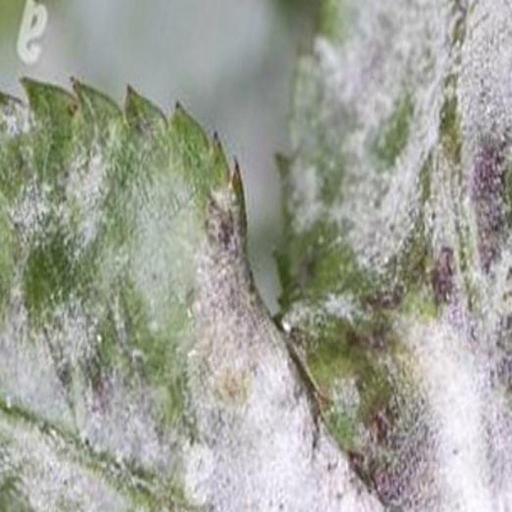powdery_mildew: (0, 79, 380, 512), (278, 0, 512, 512)
